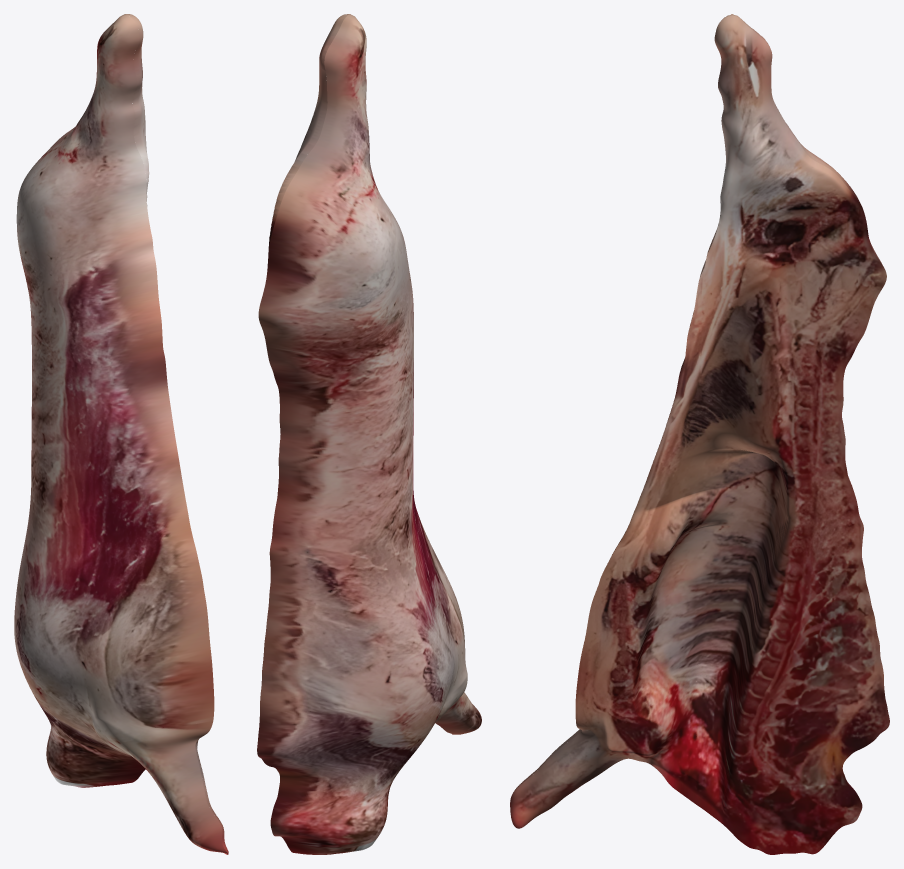
The model's file is demi_carcasse_boeuf_v28.glb.
3 views of the same model, side by side, from view 1: azimuth 30°, elevation 25°; view 2: azimuth 150°, elevation 25°; view 3: azimuth 270°, elevation 25° (orthographic). The views are drawn at different scales.
Visible parts, largest first — view 1: face_exterieure, face_de_fente; view 2: face_exterieure, face_de_fente; view 3: face_de_fente, face_exterieure.
Part boxes in pixels (x1,y1,x2,y2): face_exterieure: (14, 14, 228, 854); face_de_fente: (126, 14, 228, 853); face_exterieure: (257, 14, 481, 854); face_de_fente: (268, 14, 452, 734); face_de_fente: (510, 15, 889, 854); face_exterieure: (513, 14, 882, 792).
Bounding box in the file's own units: 0.4164 × 2.5 × 1.03.
Materials: 2 (2 with a texture image).
